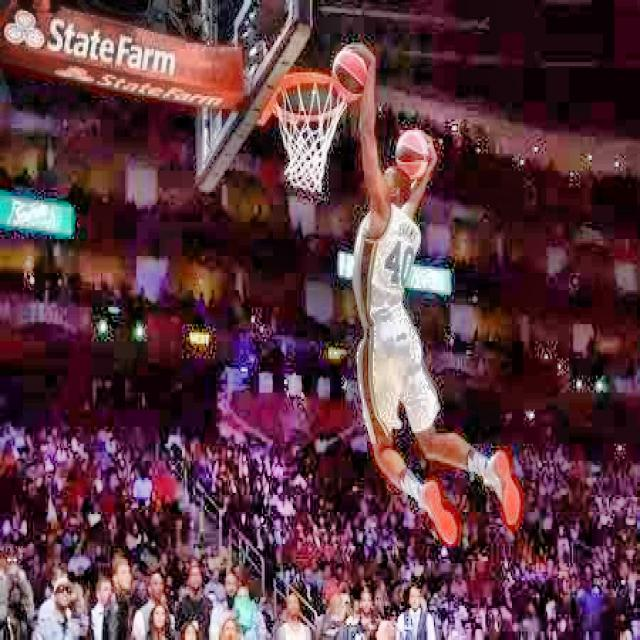rim: (276, 74, 344, 195)
